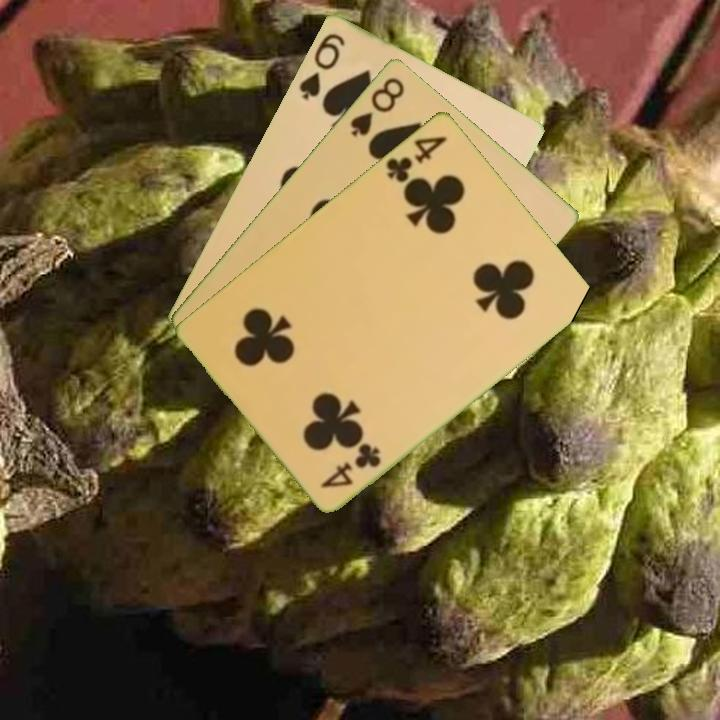4c: (382, 131, 450, 185), (317, 439, 384, 491)
6s: (295, 29, 348, 102)
8s: (346, 73, 408, 140)
